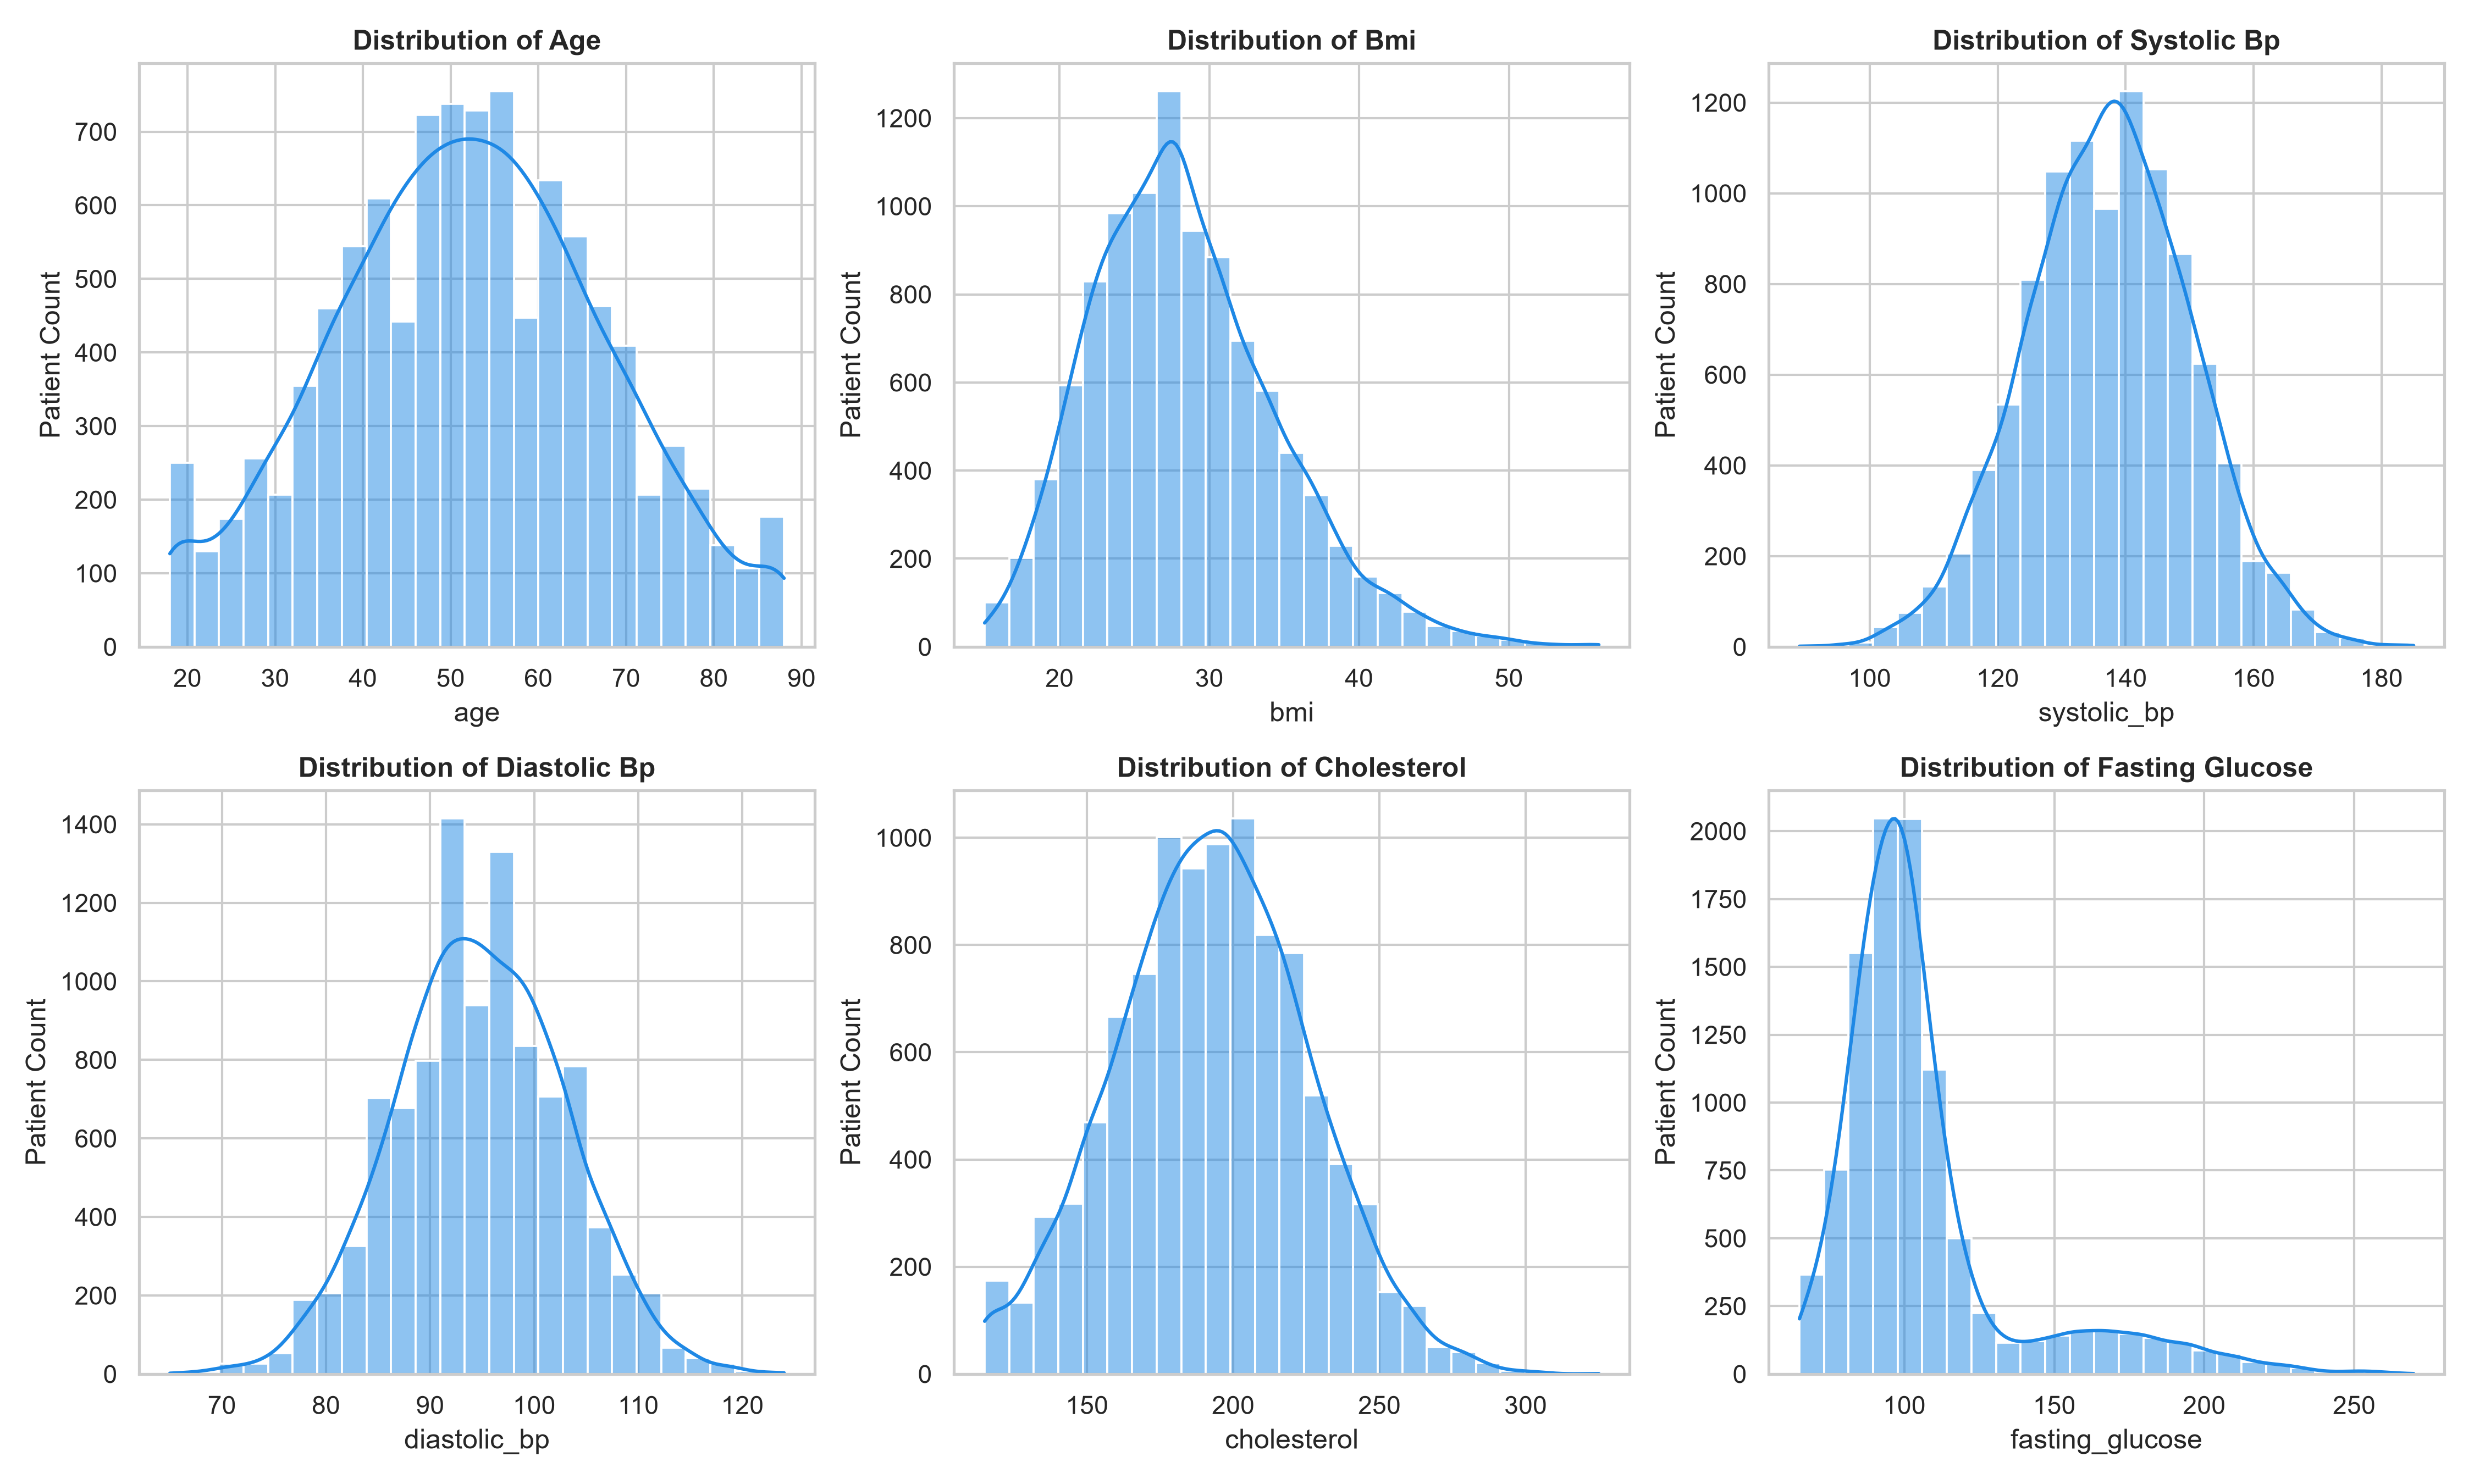

Layout of this report page (visuals, bound fields, positions):
{"tool":"tableau","page":{"name":"Dashboard 2 - Lifestyle and Risk Factor Analysis","canvas":[1400,900],"ordinal":1},"visuals":[{"type":"worksheet","title":"WS2_Biomarker_Distributions","box":[14,9,1372,882]}]}

Visuals, with their boxes on the page's 1400x900 design canvas (x1, y1, x2, y2). These are canvas units, not pixel positions in the 2474x1484 screenshot, which may show the page scaled, cropped or inside an application window:
"WS2_Biomarker_Distributions" worksheet: bbox=(14, 9, 1386, 891)
